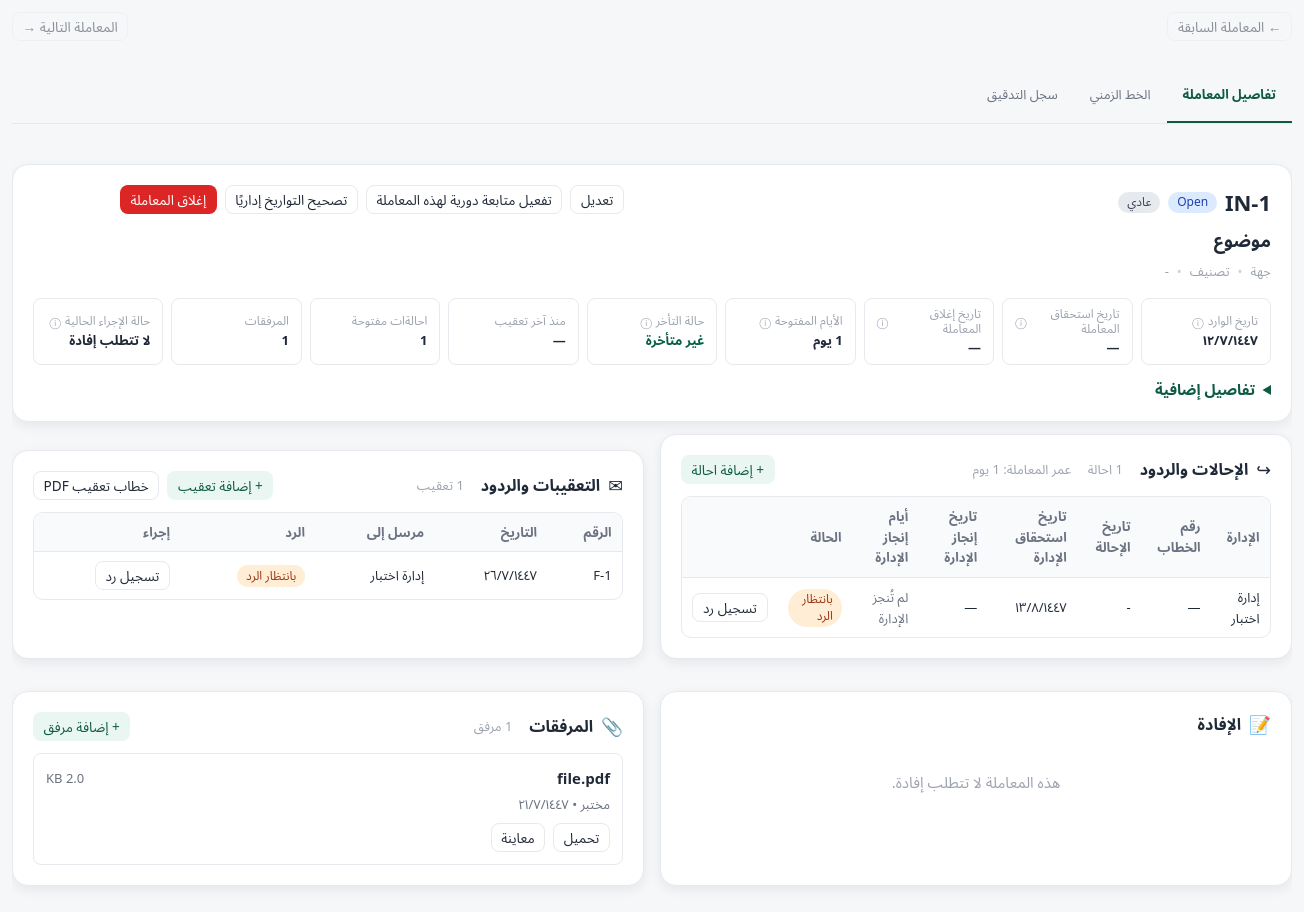
TransactionDetailPage three-tab layout › loads timeline only after opening its tab
Step 1. Click the tab "الخط الزمني" → [1120, 96], box [1074,69,1167,123]
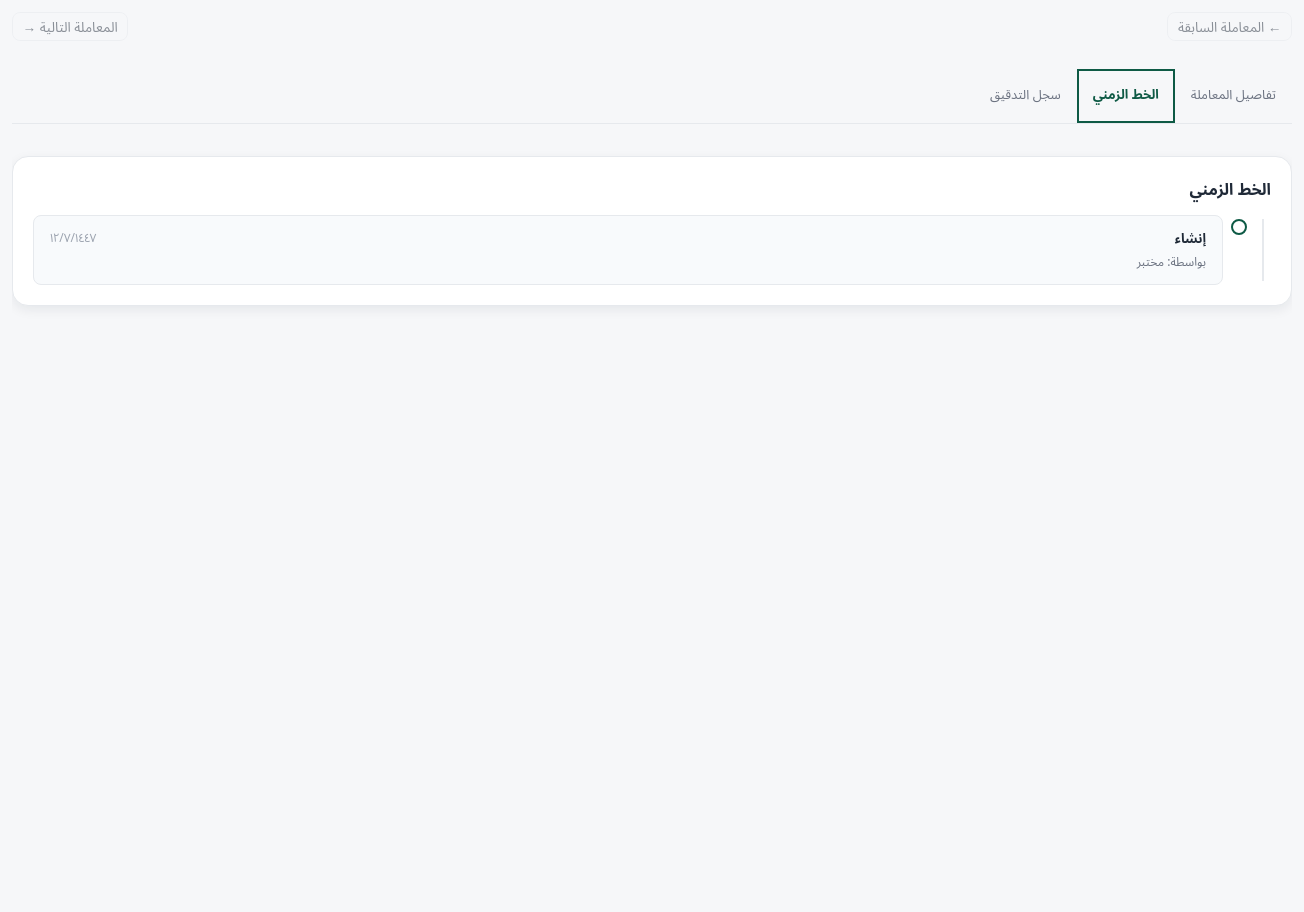
Expected: the heading "الخط الزمني" is shown, [1190,177,1271,203]
